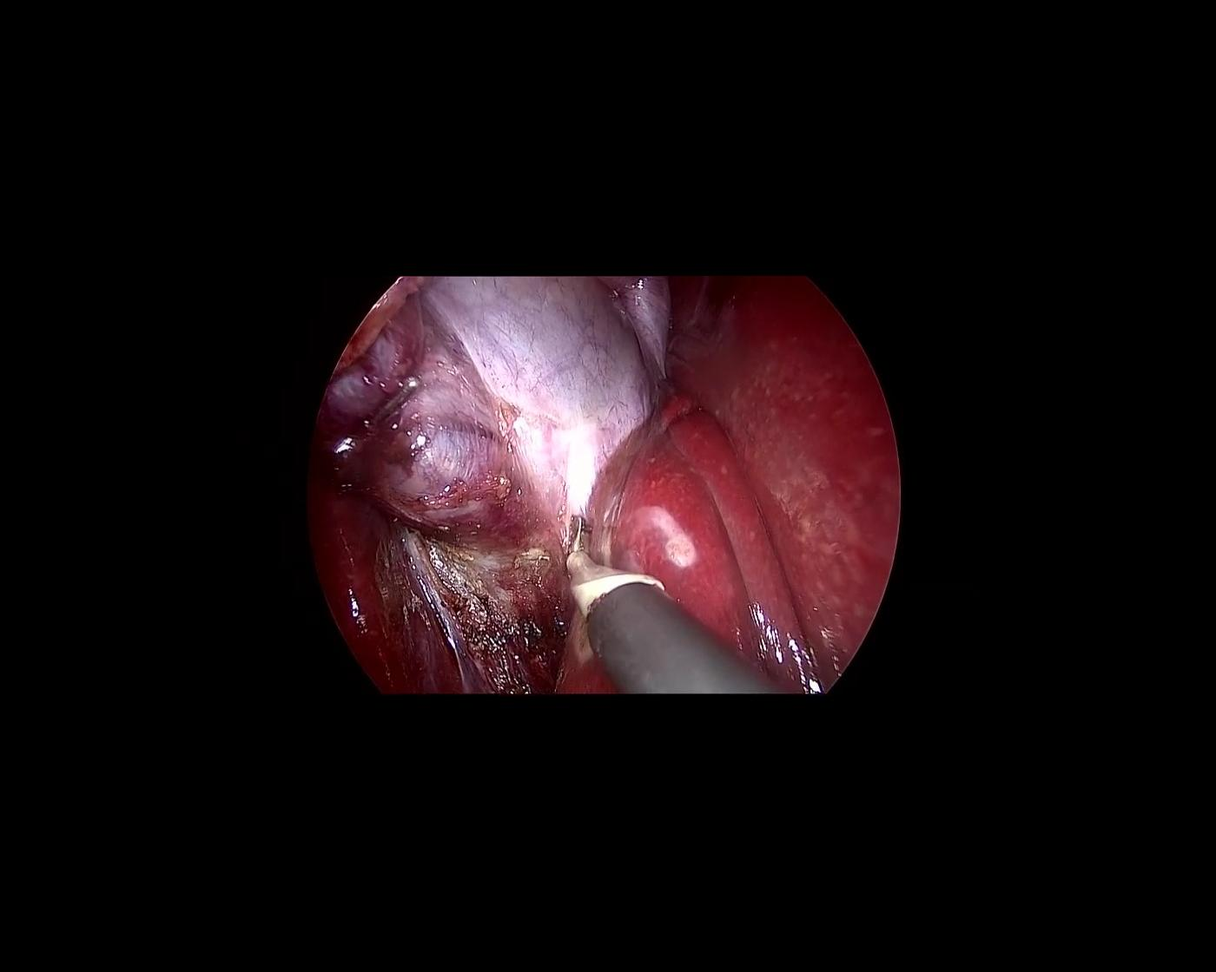Cautery: (502, 505, 794, 780)
Gallbladder: (316, 281, 670, 554)
Liver: (552, 246, 941, 748)
